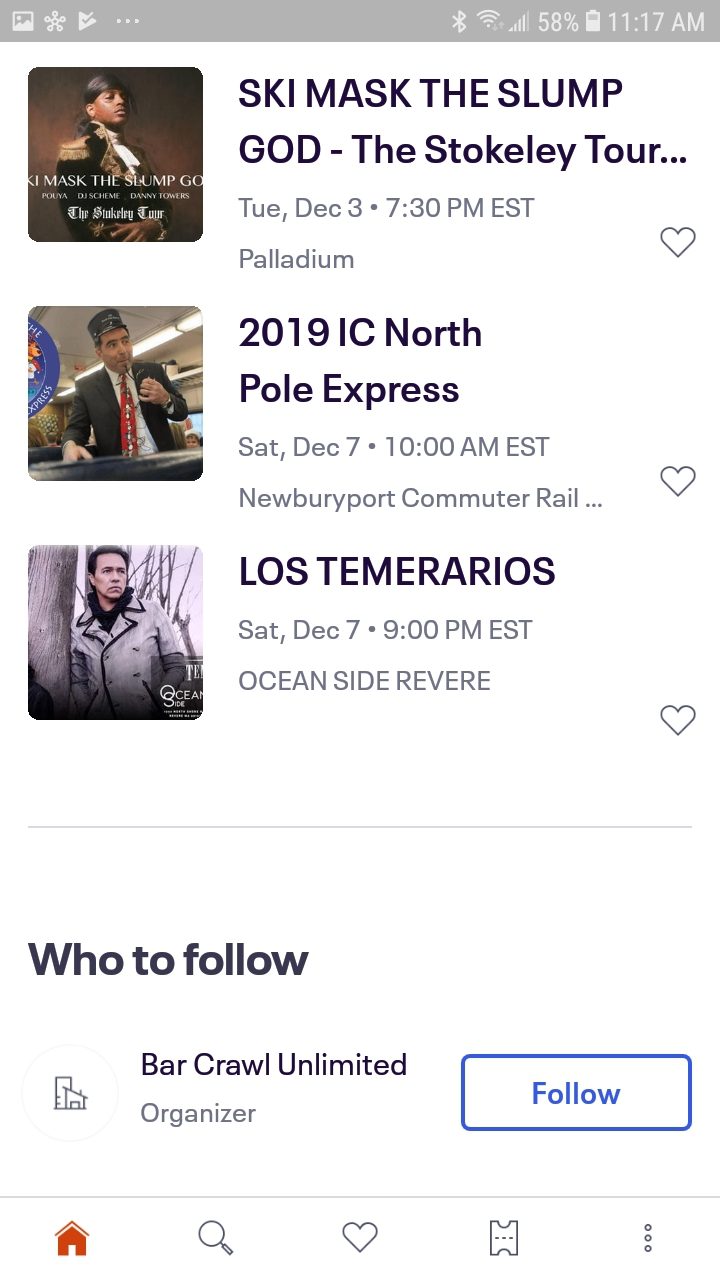Icon: (198, 1219, 235, 1256), (55, 1220, 91, 1257), (659, 465, 696, 497), (342, 1222, 379, 1254), (660, 227, 696, 259), (660, 705, 696, 735), (490, 1220, 519, 1257), (644, 1223, 653, 1253)
Image: (28, 67, 204, 243), (28, 545, 204, 721), (29, 306, 204, 482), (22, 1044, 120, 1142)
Text: (239, 78, 687, 172), (238, 436, 603, 513), (239, 318, 482, 411), (238, 198, 536, 270), (239, 619, 534, 691), (28, 942, 310, 976), (241, 556, 556, 586), (142, 1052, 407, 1076), (141, 1102, 257, 1128)
TextButton: (461, 1054, 693, 1132)
UpperTaskBar: (1, 1, 720, 43)
